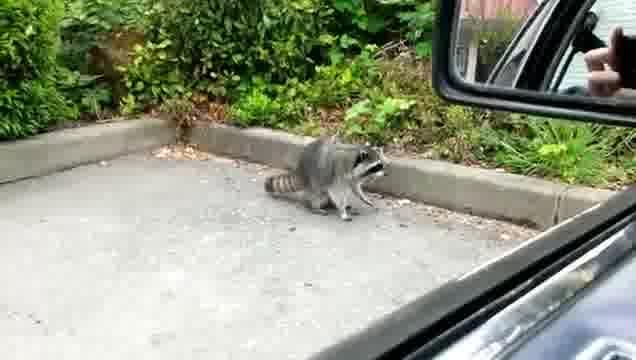raccoon: (264, 139, 396, 228)
